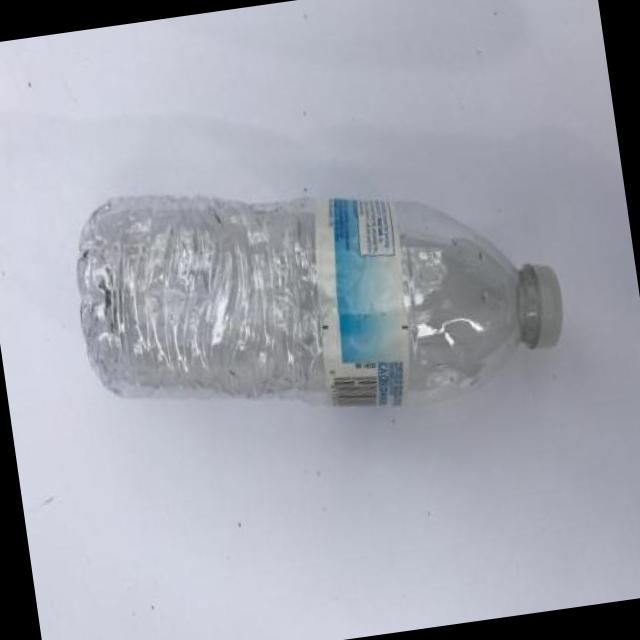plastic_bottle: (64, 136, 576, 452)
